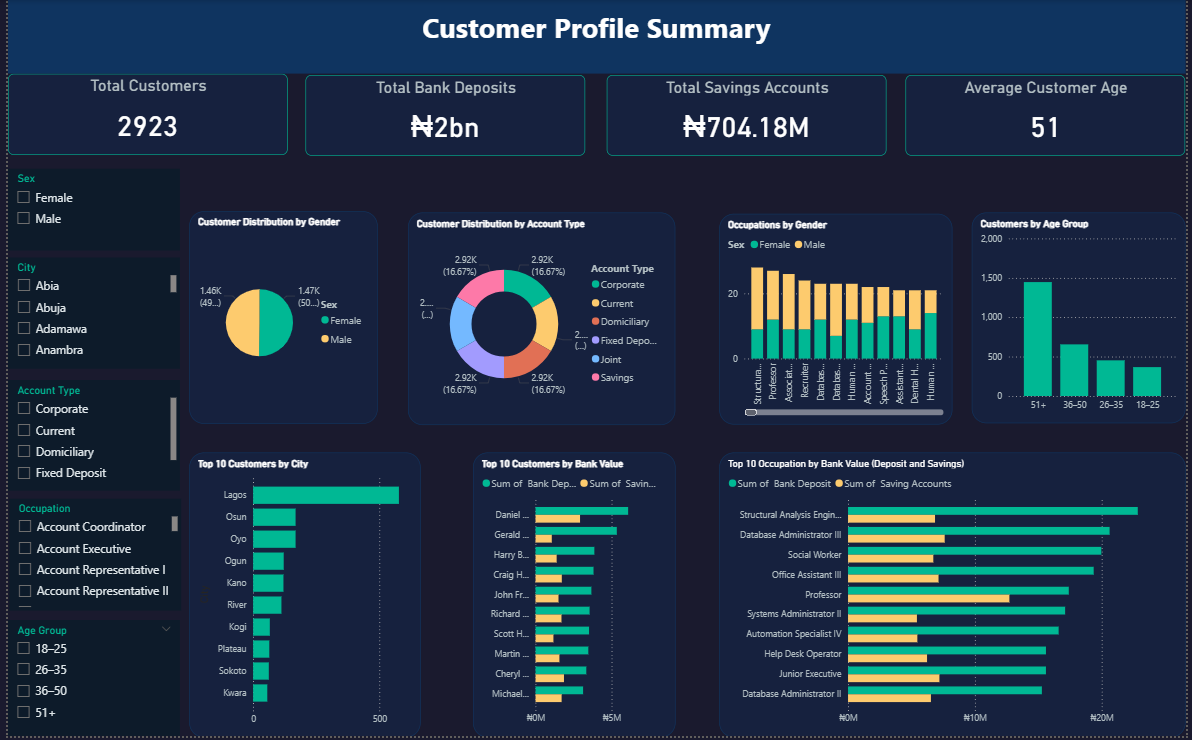

What the dashboard file says about the page in this screenshot:
{"tool":"powerbi","page":{"name":"Customer Profile Summary","canvas":[1600,1000],"ordinal":0},"visuals":[{"type":"card","title":"Total Customers","fields":{"Values":["Customer.Total Customers"]},"box":[0,100.5,380,110],"z":0},{"type":"card","title":"Total Bank Deposits ","fields":{"Values":["Customer.Total Bank Deposits"]},"box":[404.4,102.7,380.3,109.3],"z":1000},{"type":"card","title":"Total Savings Accounts","fields":{"Values":["Sum(Customer.Cleaned Saving Accounts)"]},"box":[813.1,102.7,380.3,109.3],"z":2000},{"type":"card","title":"Average Customer Age","fields":{"Values":["Customer.Average Age"]},"box":[1219.7,102.7,380.3,109.3],"z":3000},{"type":"pieChart","title":"Customer Distribution by Gender","fields":{"Category":["Customer.Sex"],"Y":["CountNonNull(Customer.Customer_id)"]},"box":[247,286.3,255.7,288.5],"z":4000},{"type":"columnChart","title":"Occupations by Gender","fields":{"Category":["Customer.Occupation"],"Y":["CountNonNull(Customer.Customer_id)"],"Series":["Customer.Sex"]},"box":[966.1,290.7,316.9,286.3],"z":5000},{"type":"columnChart","title":"Customers by Age Group","fields":{"Y":["CountNonNull(Customer.Customer_id)"],"Category":["Customer.AGE RANGE"]},"box":[1309.3,288.5,290.7,286.3],"z":6000},{"type":"slicer","fields":{"Values":["Customer.Sex"]},"box":[0,229.5,233.9,111.5],"z":7000},{"type":"slicer","fields":{"Values":["Customer.City"]},"box":[0,349.7,233.9,150.8],"z":8000},{"type":"slicer","fields":{"Values":["Accounts.Account Type"]},"box":[0,515.6,233.9,150.5],"z":9000},{"type":"clusteredBarChart","title":"Top 10 Customers by City","fields":{"Category":["Customer.City"],"Y":["CountNonNull(Accounts.Customer_id)"]},"box":[247,614.2,314.8,386.9],"z":10000},{"type":"clusteredBarChart","title":"Top 10 Occupation by Bank Value (Deposit and Savings)","fields":{"Category":["Customer.Occupation"],"Y":["Sum(Customer. Bank Deposit)","Sum(Customer. Saving Accounts)"]},"box":[966.1,614.2,633.9,386.9],"z":11000},{"type":"clusteredBarChart","title":"Top 10 Customers by Bank Value","fields":{"Category":["Customer.Full name"],"Y":["Sum(Customer.Clean Bank Deposit)","Sum(Customer.Cleaned Saving Accounts)"]},"box":[631.7,614.2,275.4,386.9],"z":12000},{"type":"donutChart","title":" Customer Distribution by Account Type","fields":{"Y":["CountNonNull(Customer.Customer_id)"],"Category":["Accounts.Account Type"]},"box":[544.3,288.5,362.8,288.5],"z":13000},{"type":"slicer","fields":{"Values":["Customer.Occupation"]},"box":[1.5,678,233.9,152],"z":14000},{"type":"slicer","fields":{"Values":["Customer.Age Group"]},"box":[0,841.9,233.9,157.9],"z":15000},{"type":"textbox","box":[0,0,1600,100],"z":16000},{"type":"pageNavigator","box":[1056.4,25.5,543.5,49.3],"z":16001}]}

Visuals, with their boxes in screenshot pixels (x1, y1, x2, y2), scaled from the page's 1600x1000 canvas onto the 1192x740 screenshot:
"Total Customers" card: region(0, 74, 283, 156)
"Total Bank Deposits " card: region(301, 76, 585, 157)
"Total Savings Accounts" card: region(606, 76, 889, 157)
"Average Customer Age" card: region(909, 76, 1191, 157)
"Customer Distribution by Gender" pieChart: region(184, 212, 375, 425)
"Occupations by Gender" columnChart: region(720, 215, 956, 427)
"Customers by Age Group" columnChart: region(975, 213, 1191, 425)
slicer - Customer.Sex: region(0, 170, 174, 252)
slicer - Customer.City: region(0, 259, 174, 370)
slicer - Accounts.Account Type: region(0, 382, 174, 493)
"Top 10 Customers by City" clusteredBarChart: region(184, 455, 419, 739)
"Top 10 Occupation by Bank Value (Deposit and Savings)" clusteredBarChart: region(720, 455, 1191, 739)
"Top 10 Customers by Bank Value" clusteredBarChart: region(471, 455, 676, 739)
" Customer Distribution by Account Type" donutChart: region(406, 213, 676, 427)
slicer - Customer.Occupation: region(1, 502, 175, 614)
slicer - Customer.Age Group: region(0, 623, 174, 739)
textbox: region(0, 0, 1191, 74)
pageNavigator: region(787, 19, 1191, 55)
